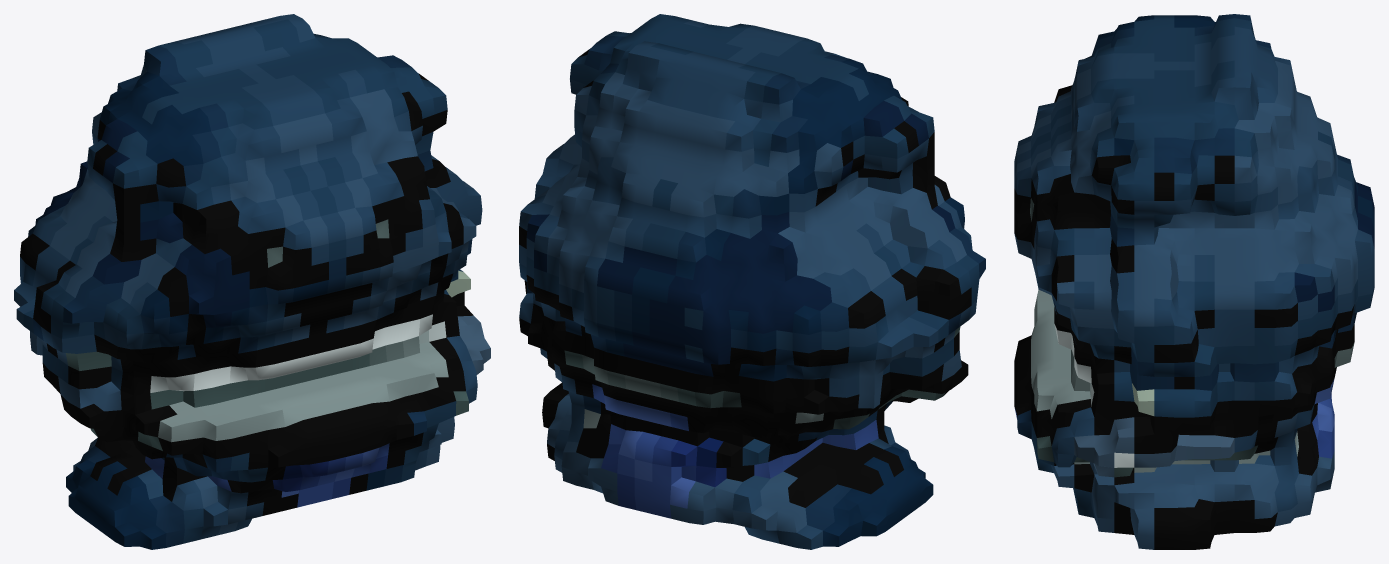
The model's file is Icon_023_03.obj.
3 views of the same model, side by side, from view 1: azimuth 30°, elevation 25°; view 2: azimuth 150°, elevation 25°; view 3: azimuth 270°, elevation 25° (orthographic).
Bounding box in the file's own units: 2.4 × 2.4 × 1.8.
